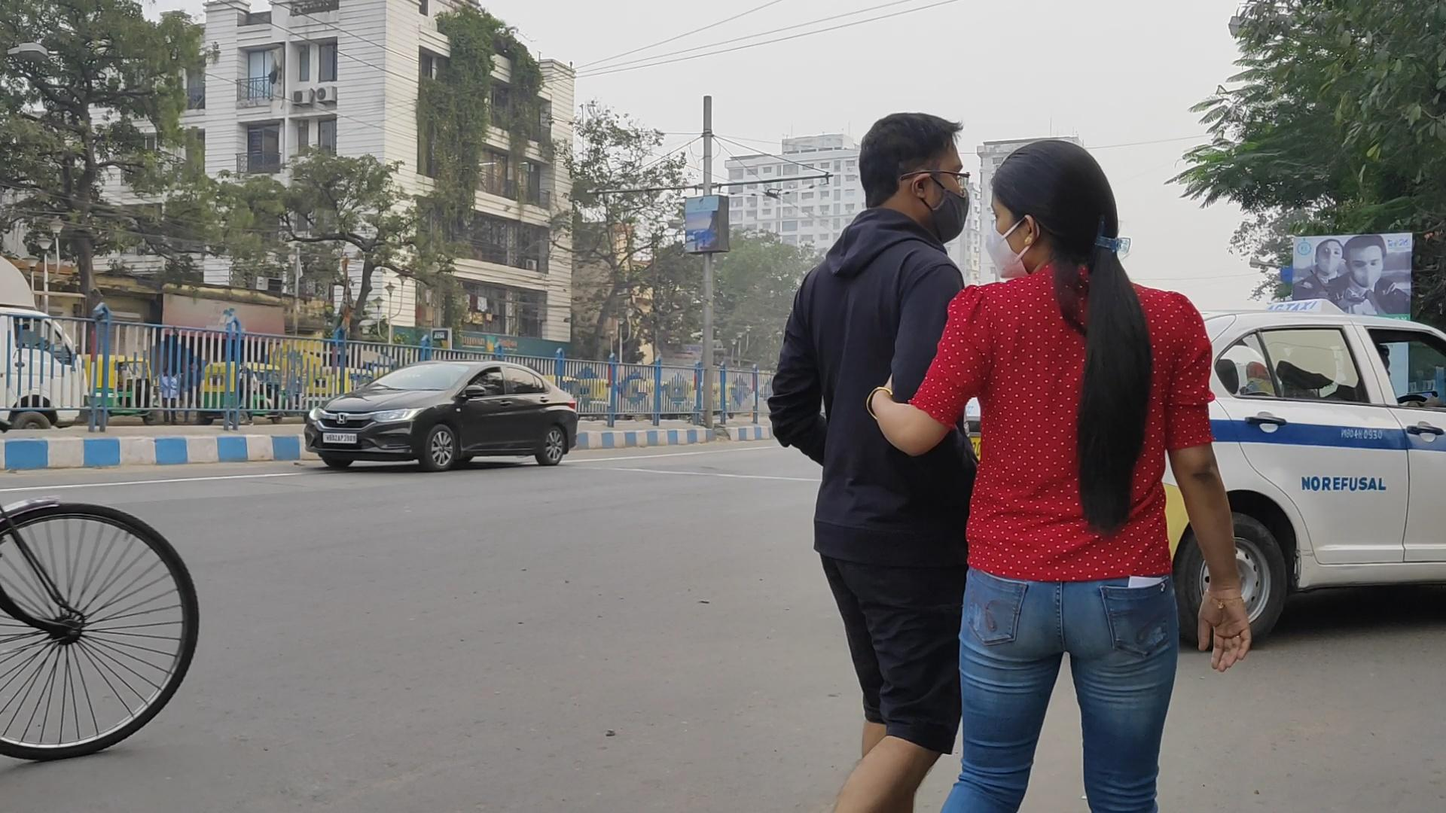car: (947, 311, 1446, 653), (304, 360, 578, 471)
